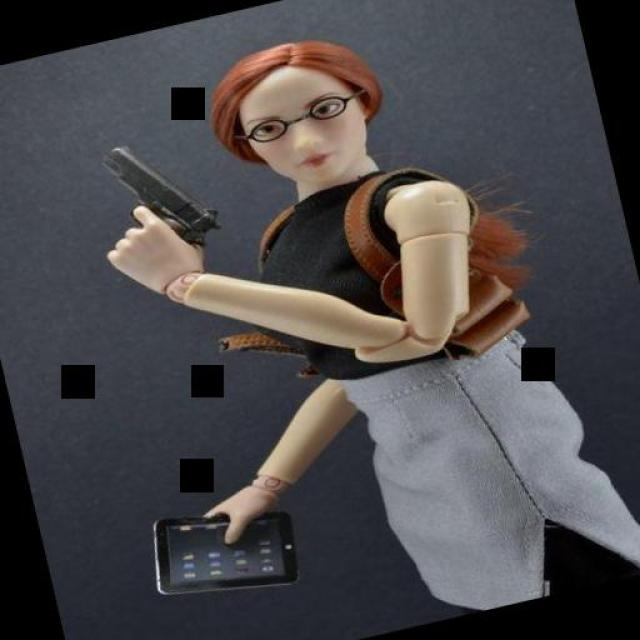gun: (76, 110, 236, 275)
